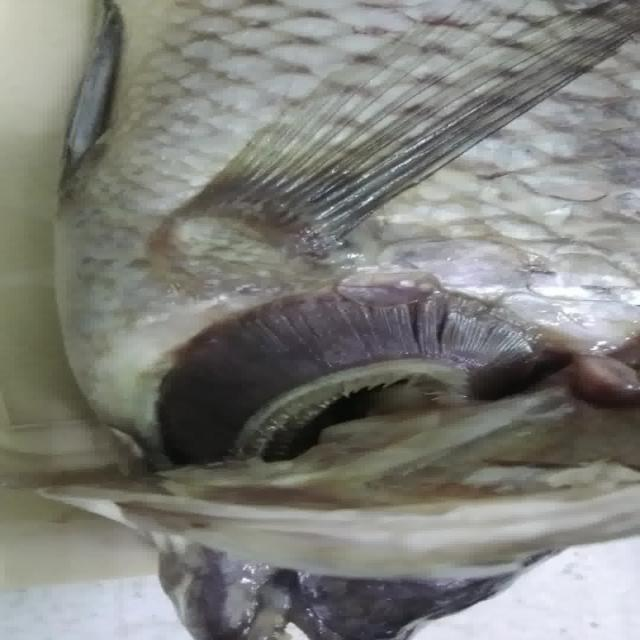Non-Fresh: (136, 279, 559, 470)
